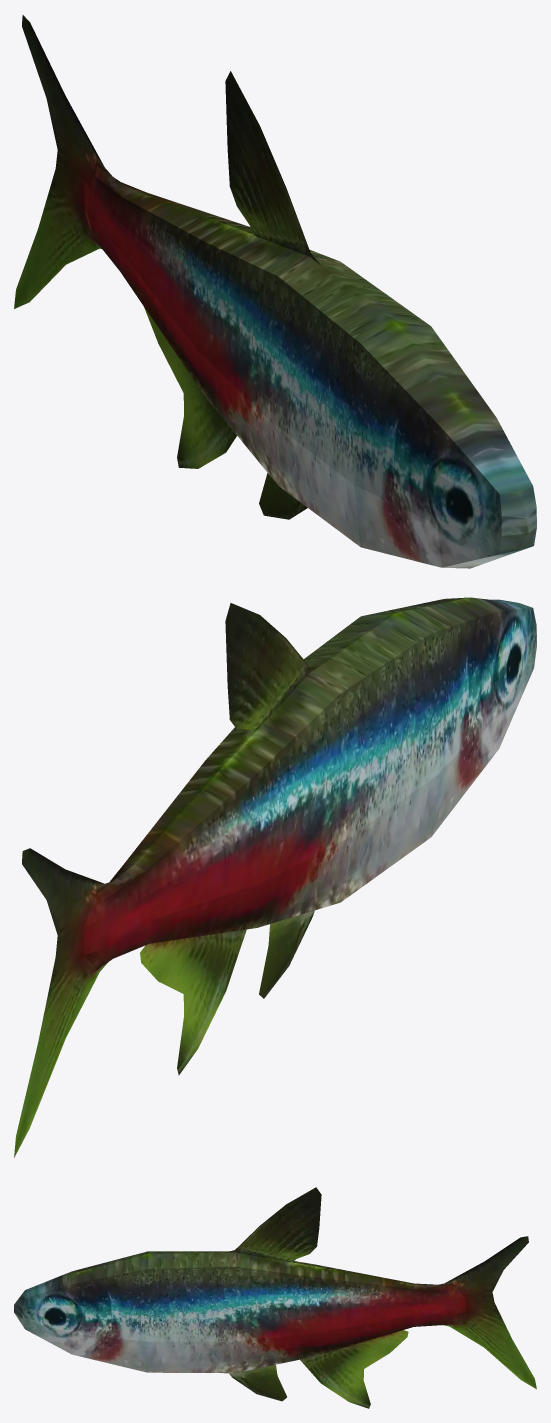
Rendered from neon_tetra_model.obj.
3 views of the same model, one above another, from view 1: azimuth 30°, elevation 25°; view 2: azimuth 150°, elevation 25°; view 3: azimuth 270°, elevation 25° (orthographic). The views are drawn at different scales.
Visible parts, largest first — view 1: neonTetraModel; view 2: neonTetraModel; view 3: neonTetraModel.
Boxes of the visible parts, <box> form: neonTetraModel: <box>14,15,536,568</box>; neonTetraModel: <box>14,597,536,1157</box>; neonTetraModel: <box>14,1187,536,1408</box>.
Bounding box in the file's own units: 0.3764 × 1.87 × 4.
1 material, 1 textured.
